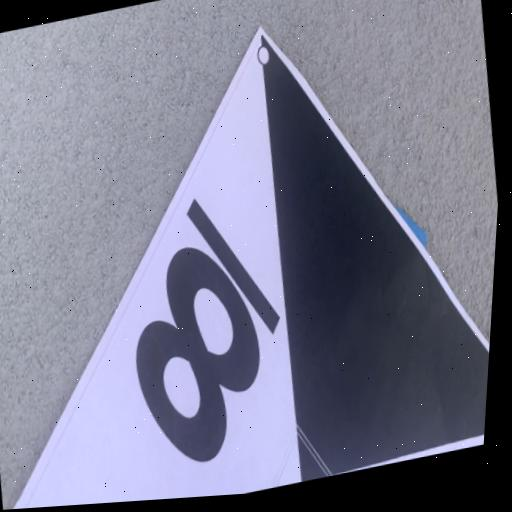target8: (11, 26, 489, 509)
